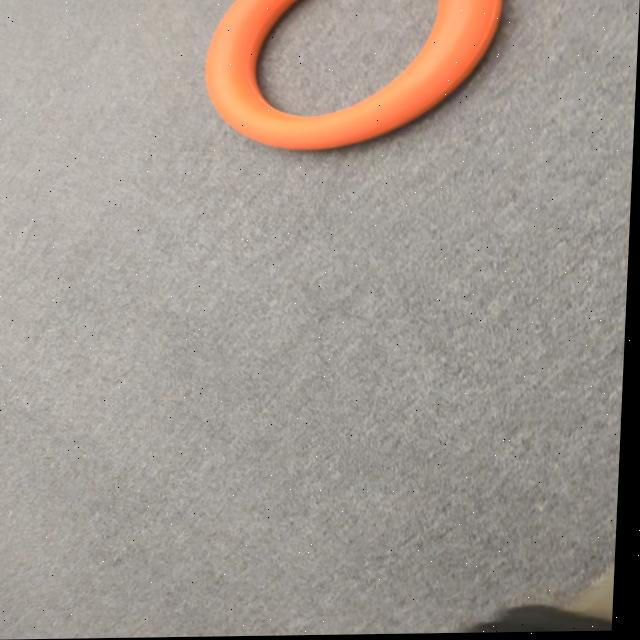note: (198, 0, 501, 156)
